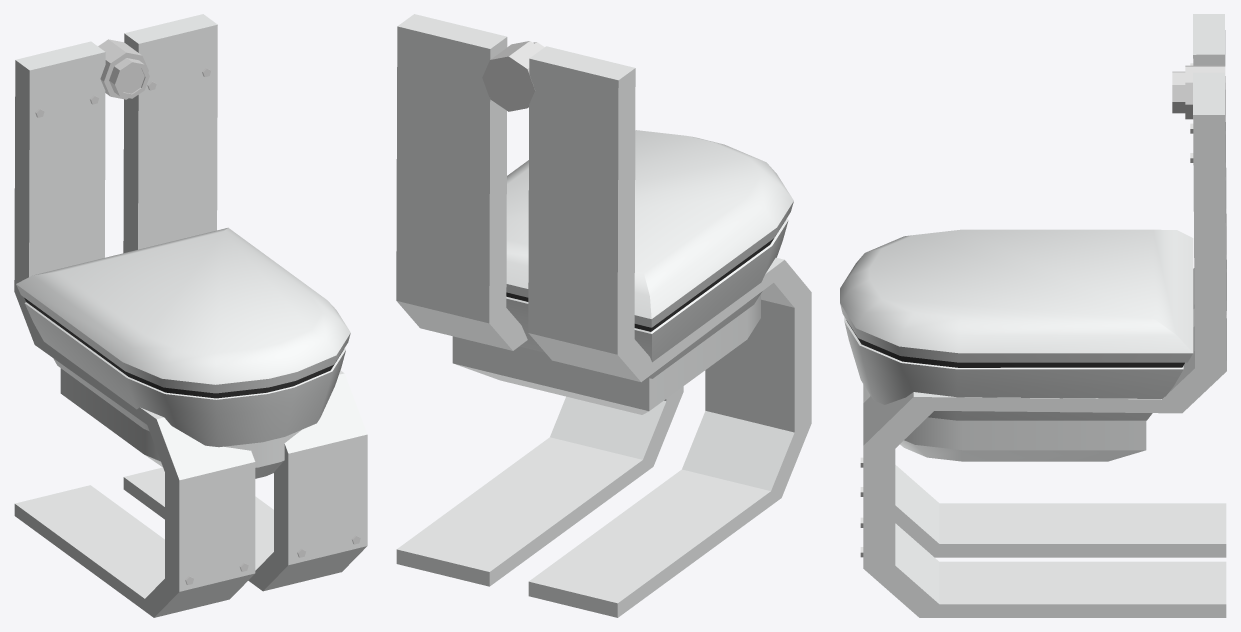
Rendered from Closet.fbx.
3 renders of one model, left to right at view 1: azimuth 30°, elevation 25°; view 2: azimuth 150°, elevation 25°; view 3: azimuth 270°, elevation 25°, orthographic. The views are drawn at different scales.
Visible parts, largest first — view 1: Closet; view 2: Closet; view 3: Closet.
Part boxes in pixels (x1,y1,x2,y2): Closet: [14, 14, 367, 617]; Closet: [396, 14, 811, 617]; Closet: [840, 14, 1226, 617].
Size of the model in its own units: 0.8361 by 1.71 by 1.19.
